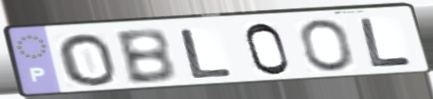0: (243, 20, 292, 77)
B: (112, 26, 180, 86)
L: (356, 16, 416, 70), (178, 27, 236, 81)
O: (55, 32, 120, 87), (297, 18, 356, 73)
